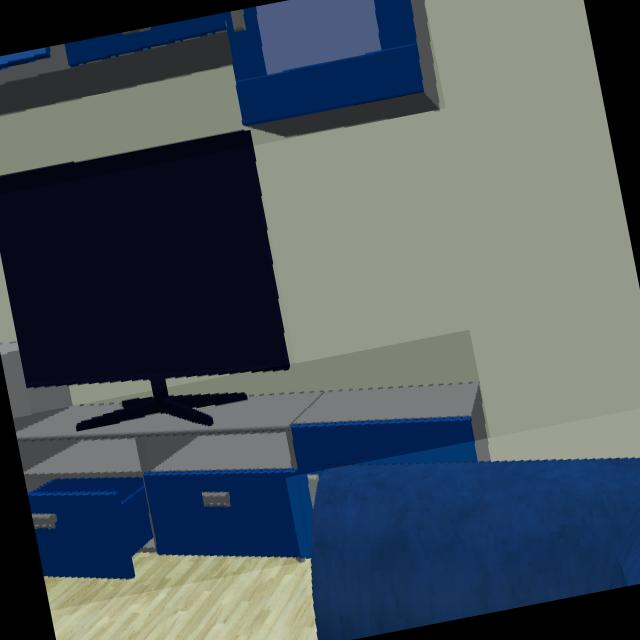cabinet: (16, 383, 492, 581), (0, 0, 441, 136)
monitor: (0, 130, 291, 432)
sofa: (310, 457, 640, 640)
